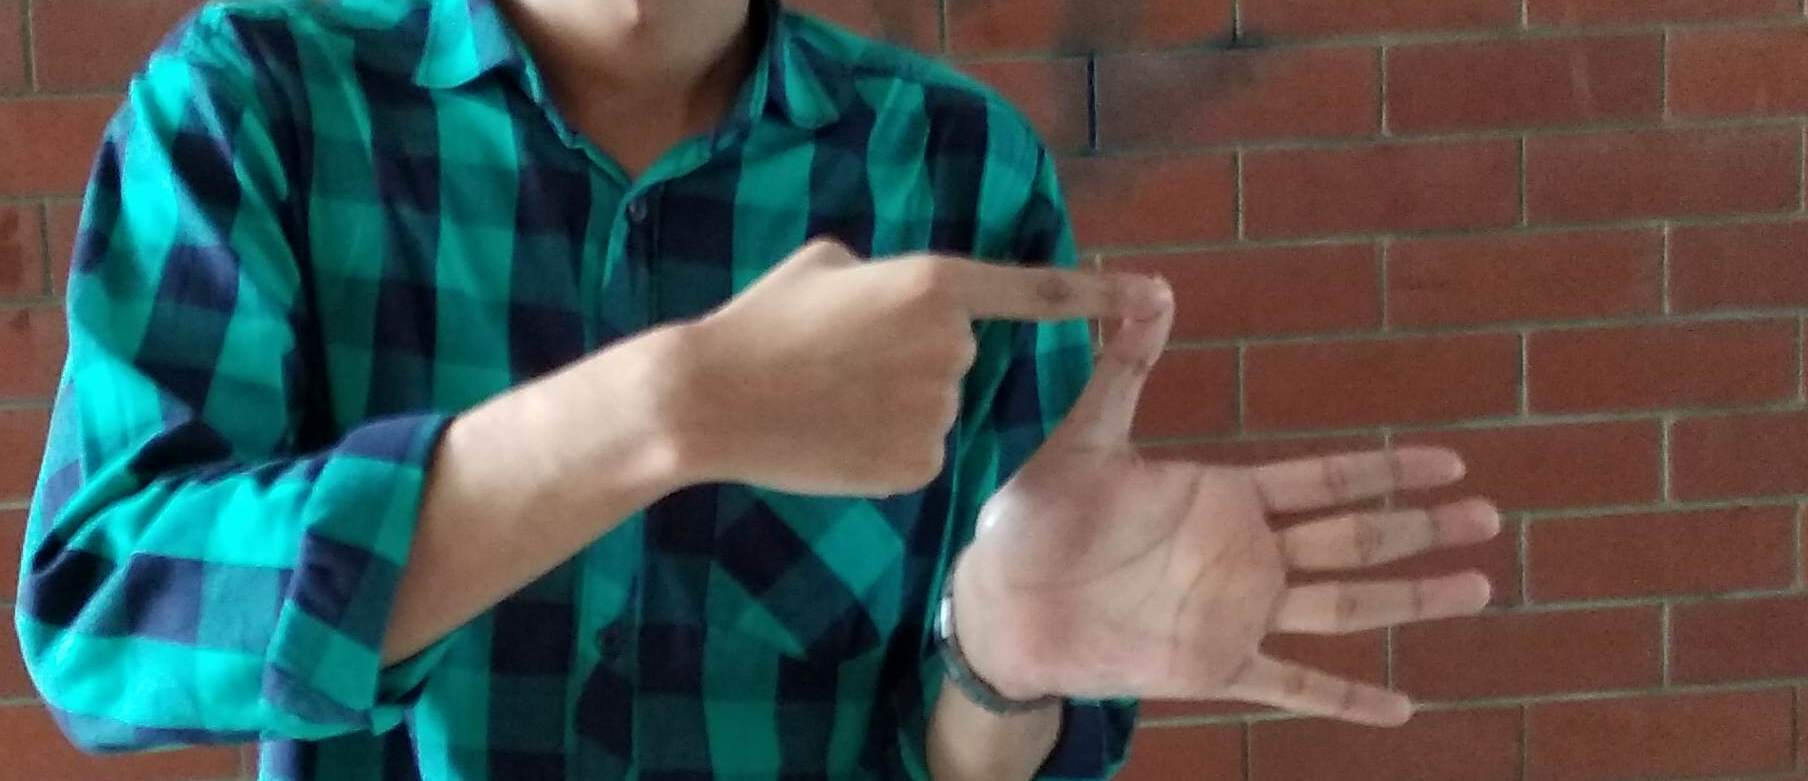a: (653, 251, 1521, 768)
